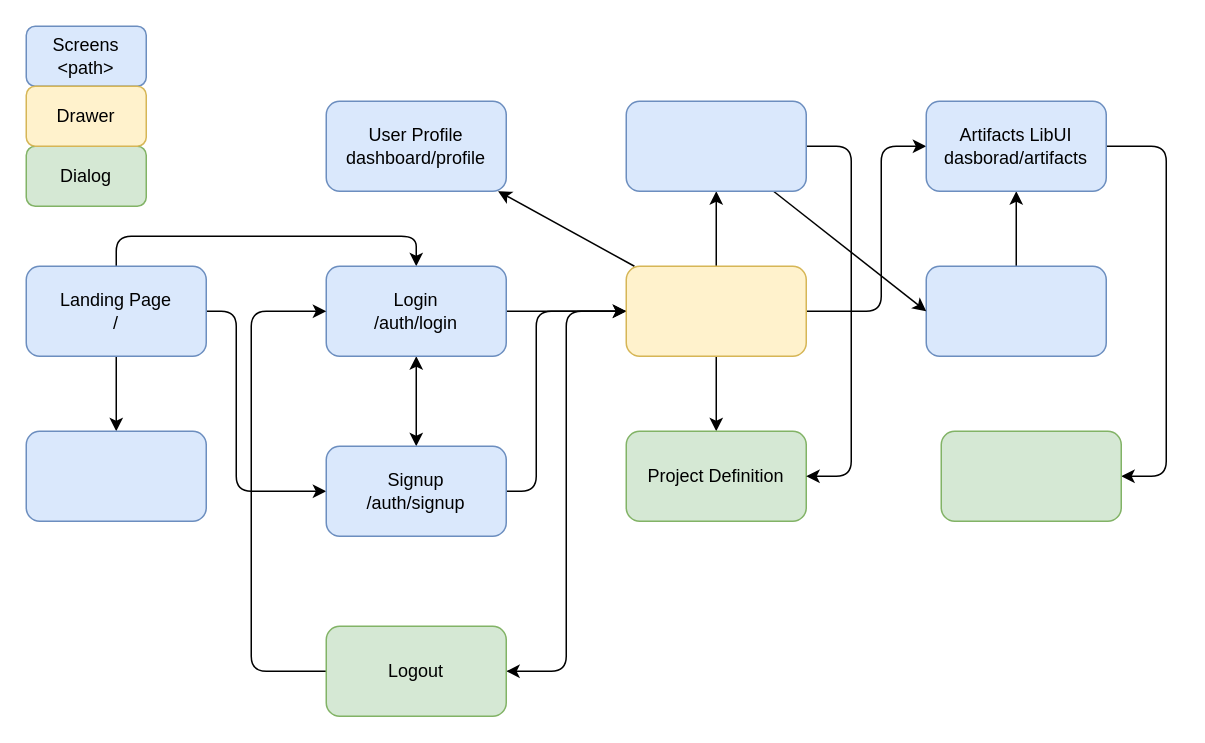
Image size: 1205x743. Some labels were removed from this diagram. The shapes that lost their labels are listed below. From the top down, each one's box as (x1, y1, x2, y2) in pixels, then its label:
(625, 100, 806, 191): My Projects dashboard/projects
(625, 265, 806, 356): Dashboard /dashboard
(925, 265, 1106, 356): Chat UI /project/:id/
(25, 430, 206, 521): Team Members /about
(940, 430, 1121, 521): Export Center
